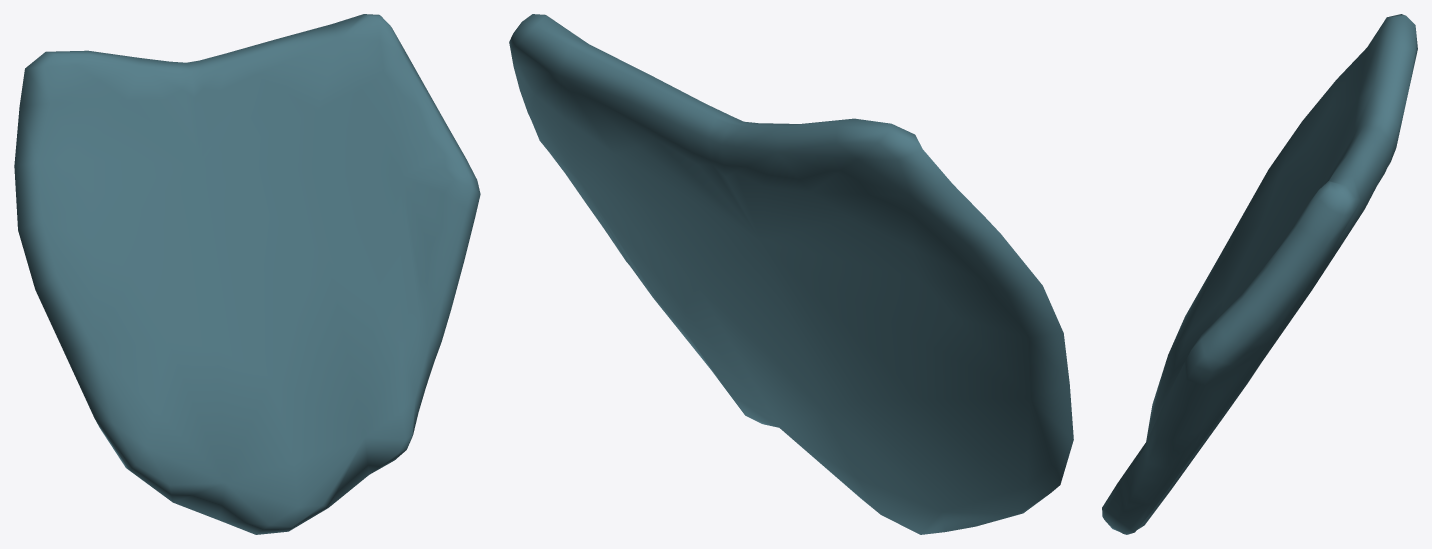
Rendered from Extensor_digitorum-proximal_phalanx-3d_finger.r_Generated_Mesh_.glb.
3 views of the same model, side by side, from view 1: azimuth 30°, elevation 25°; view 2: azimuth 150°, elevation 25°; view 3: azimuth 270°, elevation 25° (orthographic). The views are drawn at different scales.
Parts seen in each view (by area): view 1: Extensor_digitorum-proximal_phalanx-3d_finger.r_Generated_Me; view 2: Extensor_digitorum-proximal_phalanx-3d_finger.r_Generated_Me; view 3: Extensor_digitorum-proximal_phalanx-3d_finger.r_Generated_Me.
Part boxes in pixels (<box>): Extensor_digitorum-proximal_phalanx-3d_finger.r_Generated_Me: <box>14,14,480,534</box>; Extensor_digitorum-proximal_phalanx-3d_finger.r_Generated_Me: <box>509,14,1073,534</box>; Extensor_digitorum-proximal_phalanx-3d_finger.r_Generated_Me: <box>1102,14,1417,534</box>.
Bounding box in the file's own units: 0.00559 × 0.00539 × 0.0034.
